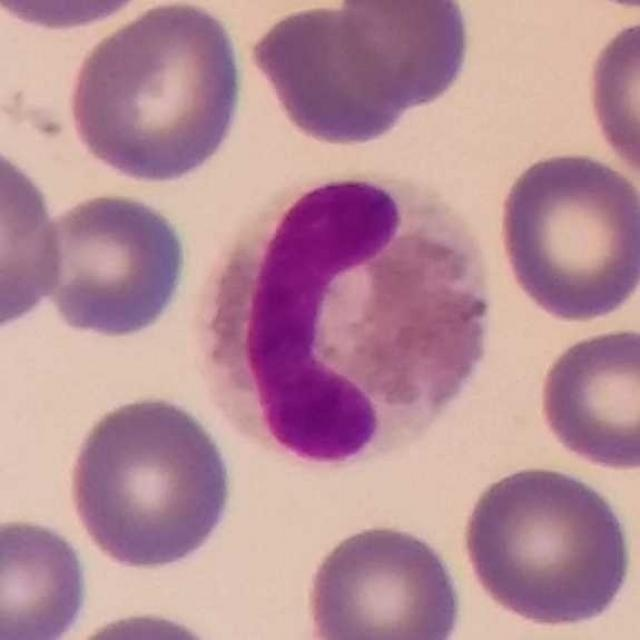eosino: (196, 166, 492, 464)
